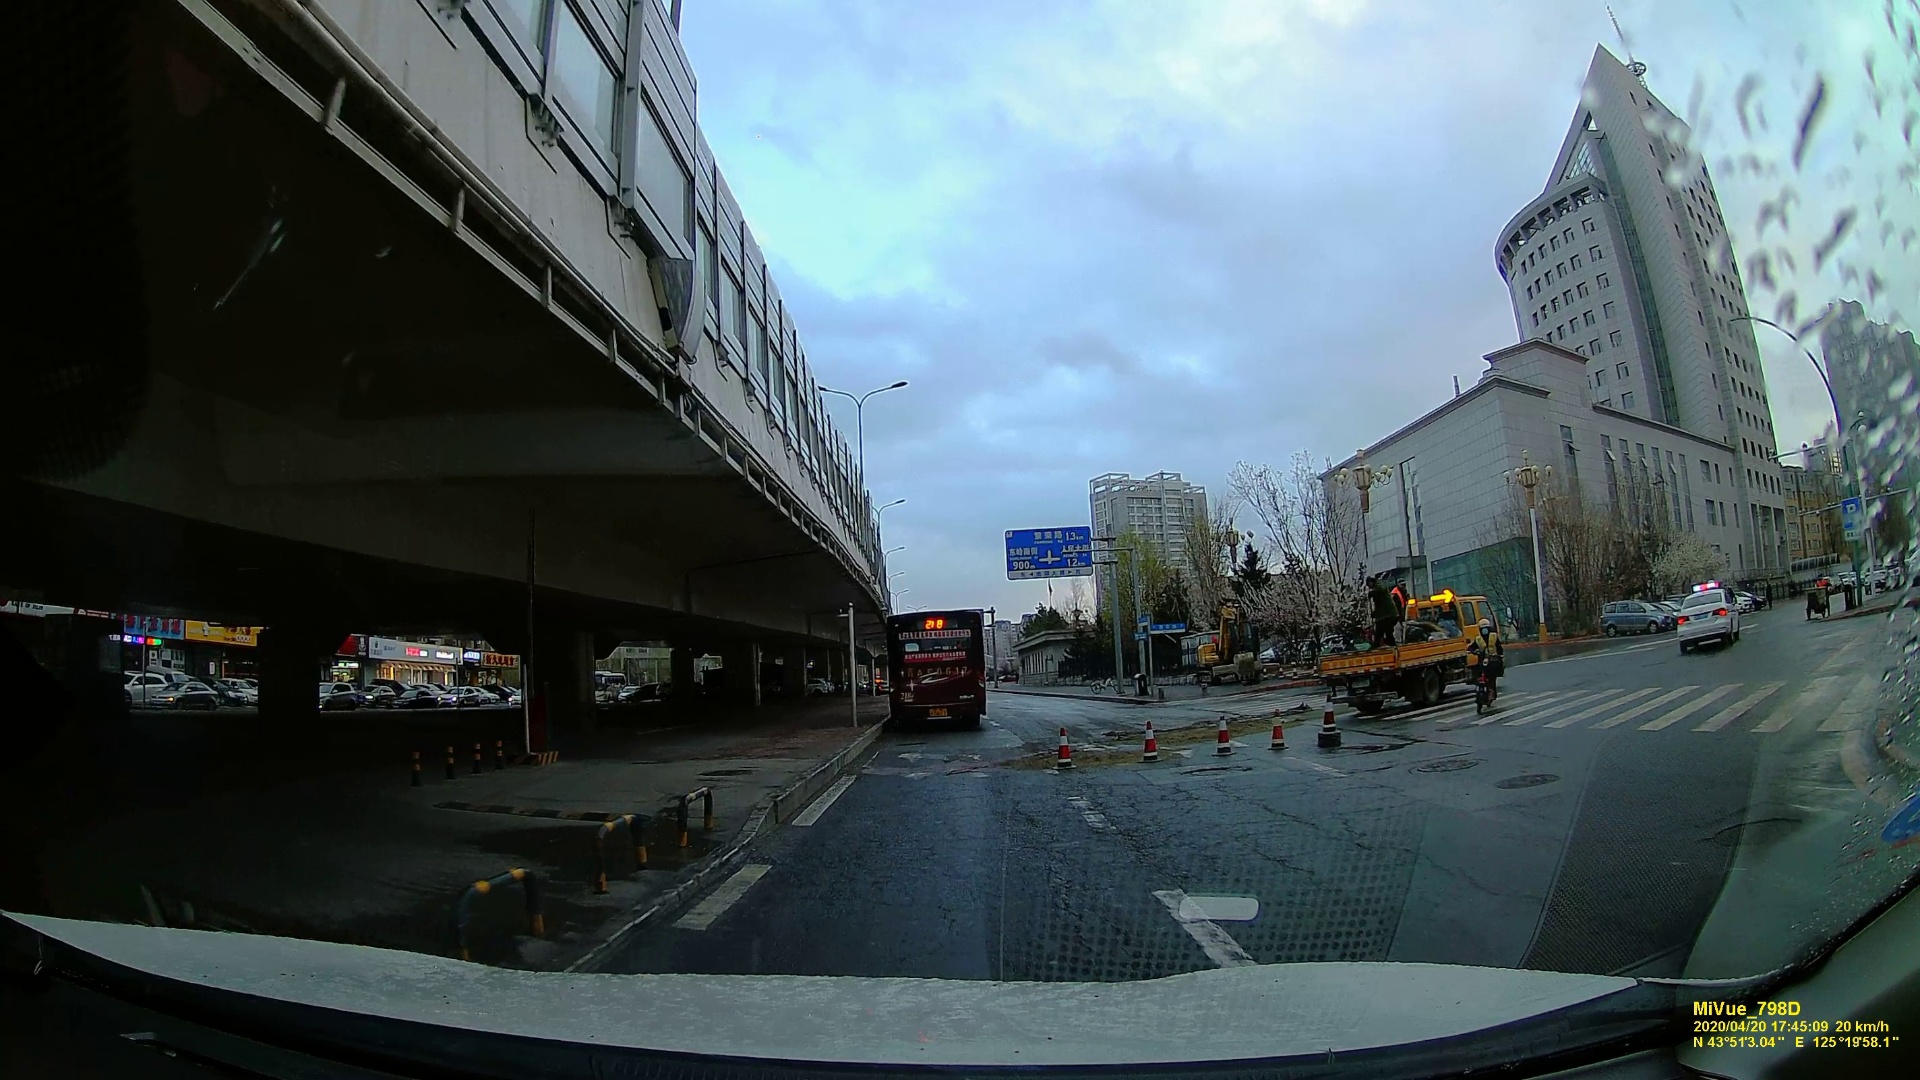bus: (889, 609, 991, 730)
person: (1467, 618, 1507, 712)
traffic_sign: (1006, 530, 1090, 574), (1843, 503, 1866, 542)
truck: (1324, 575, 1503, 701)
vehicle: (1673, 585, 1735, 646), (147, 680, 221, 707), (437, 685, 483, 705)
